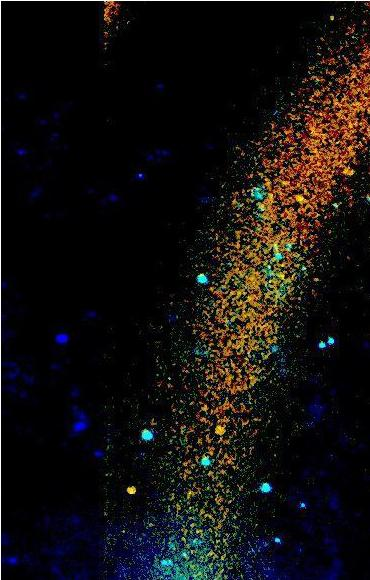star: (204, 423, 234, 453)
